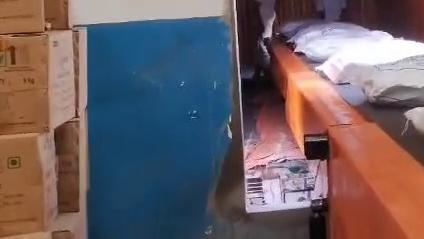box: (318, 38, 424, 83), (339, 55, 424, 106), (296, 31, 392, 63), (407, 105, 424, 135)
